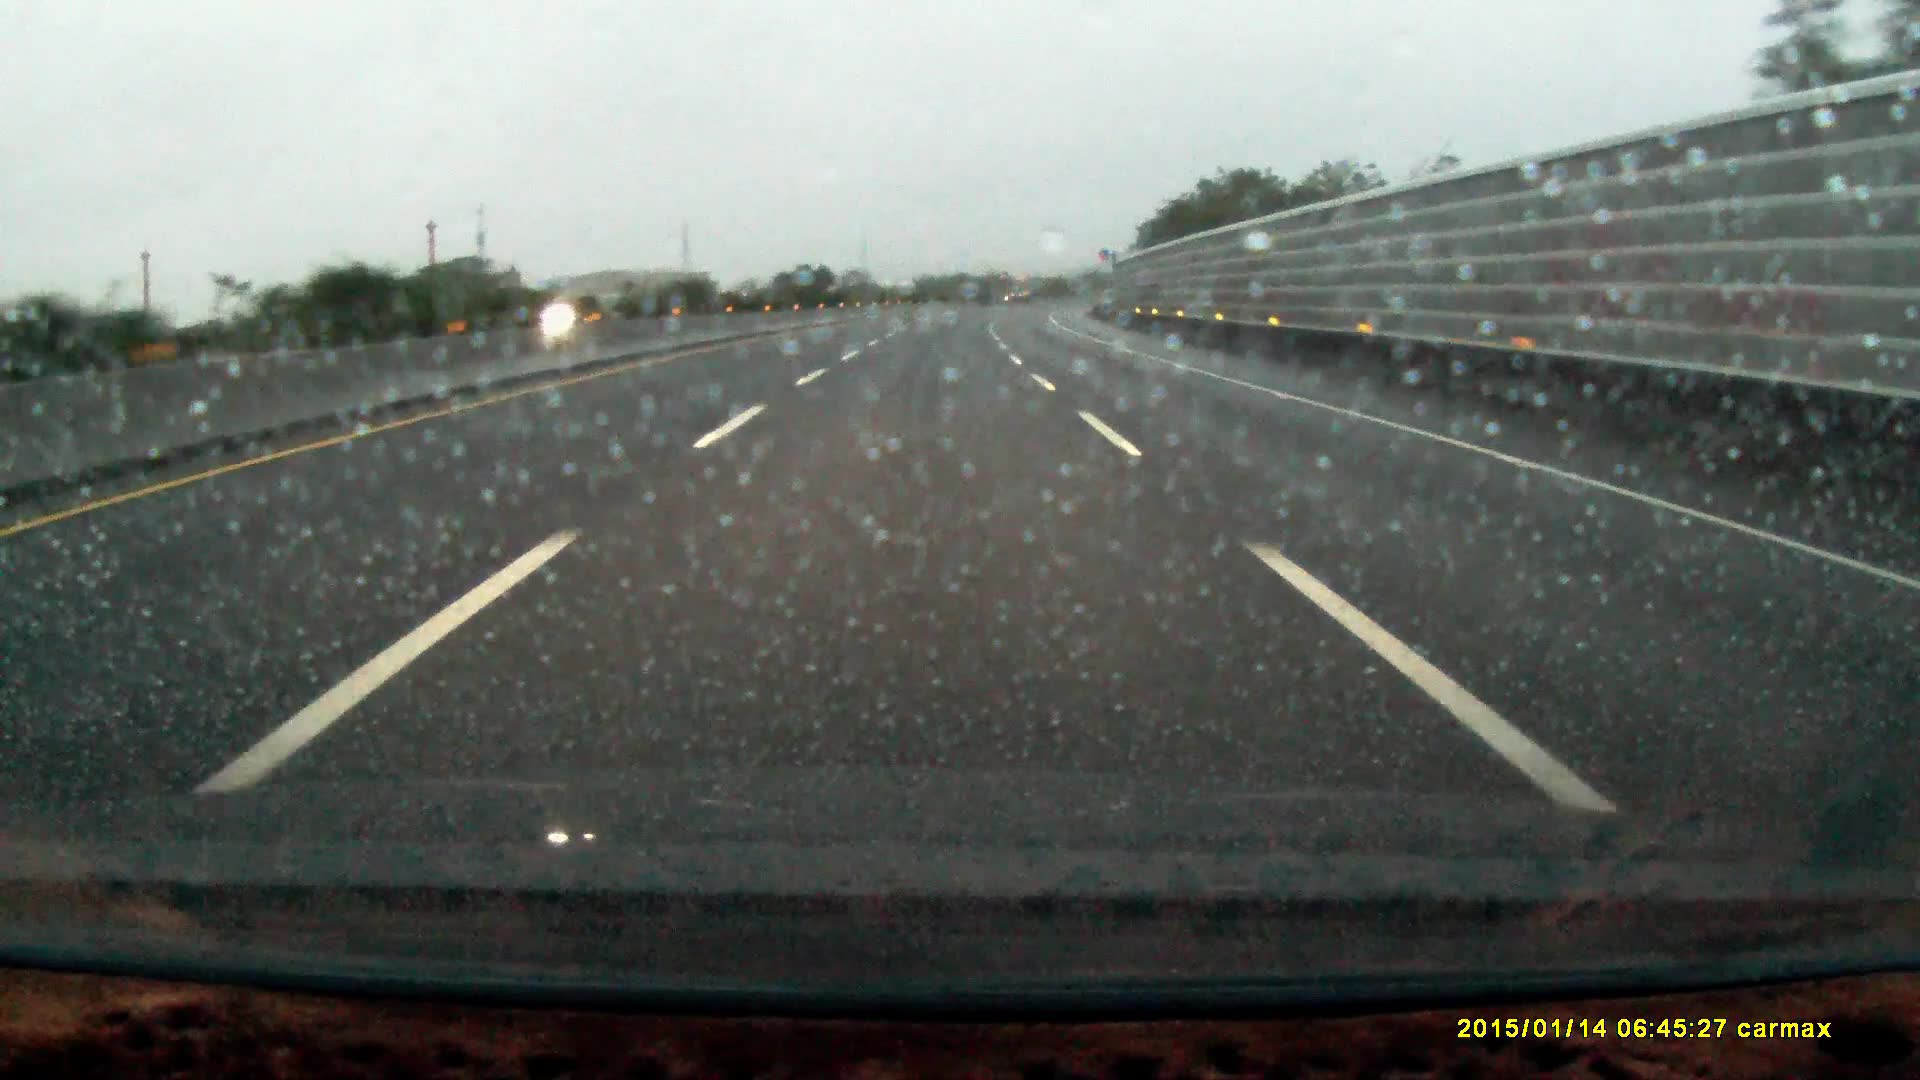vehicle: (535, 301, 611, 328)
